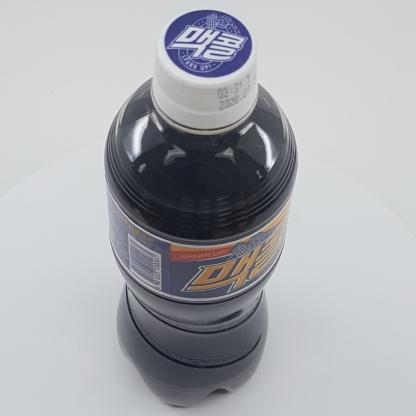-----500ML: (104, 8, 298, 407)
